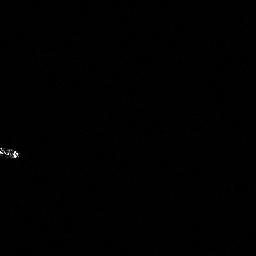ship: (1, 145, 20, 161)
